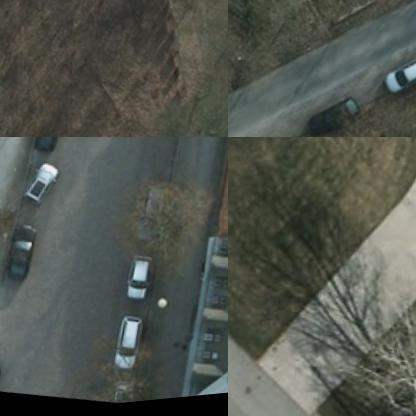car: (304, 87, 360, 136), (0, 220, 38, 283), (134, 181, 174, 240), (103, 314, 140, 372), (16, 158, 58, 206), (377, 51, 415, 104), (118, 254, 154, 304), (22, 137, 67, 158)
